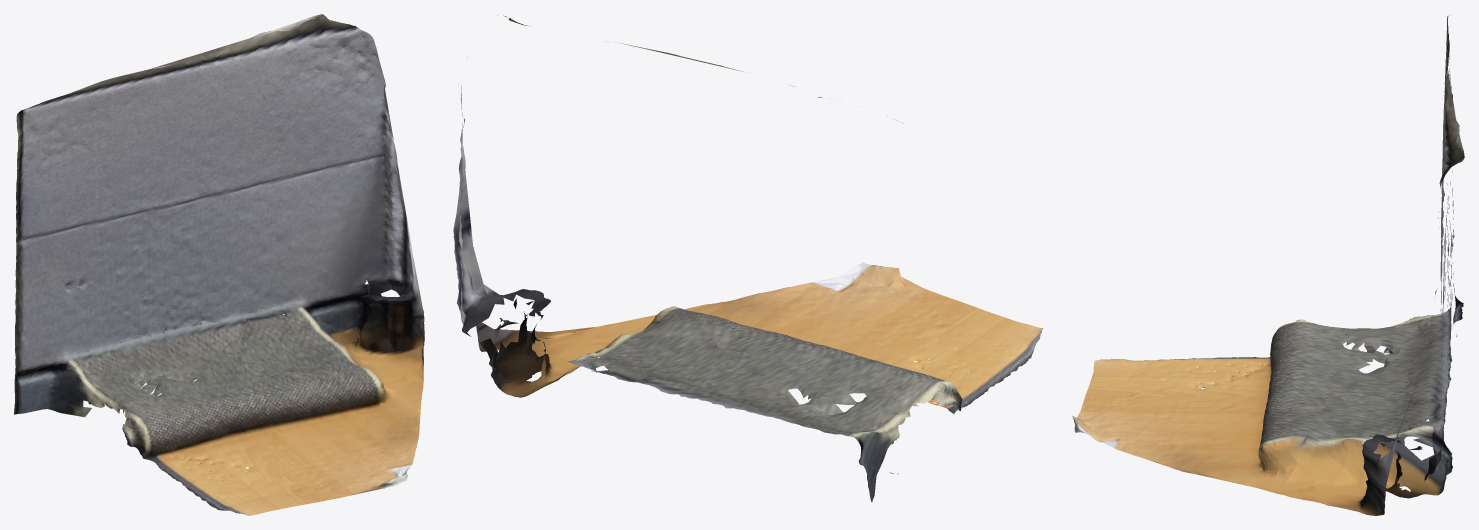
Rendered from Desk_GLB.glb.
The picture shows the model from 3 angles, left to right: view 1: azimuth 30°, elevation 25°; view 2: azimuth 150°, elevation 25°; view 3: azimuth 270°, elevation 25°; orthographic projection. The views are drawn at different scales.
Visible parts, largest first — view 1: mesh; view 2: mesh; view 3: mesh.
Part boxes in pixels (x1,y1,x2,y2): mesh: (14, 14, 424, 515); mesh: (453, 15, 1043, 502); mesh: (1072, 15, 1464, 515).
Size of the model in its own units: 0.6106 by 0.4993 by 0.5202.
Materials: 1 (1 with a texture image).
